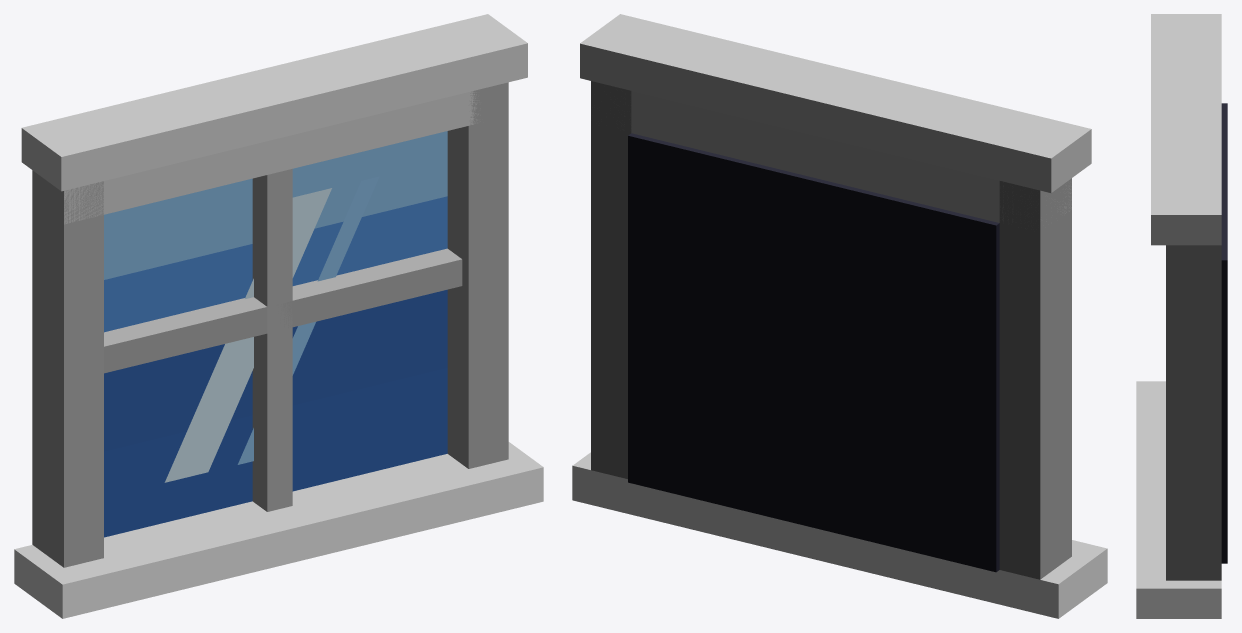
Rendered from bld_window.glb.
3 views of the same model, side by side, from view 1: azimuth 30°, elevation 25°; view 2: azimuth 150°, elevation 25°; view 3: azimuth 270°, elevation 25° (orthographic). The views are drawn at different scales.
Parts seen in each view (by area): view 1: bld_window; view 2: bld_window; view 3: bld_window.
Boxes of the visible parts, box(x1,y1,x2,y2) form: bld_window: box(14, 14, 543, 618); bld_window: box(572, 14, 1107, 618); bld_window: box(1136, 14, 1227, 618).
Bounding box in the file's own units: 0.825 × 0.7437 × 0.1537.
